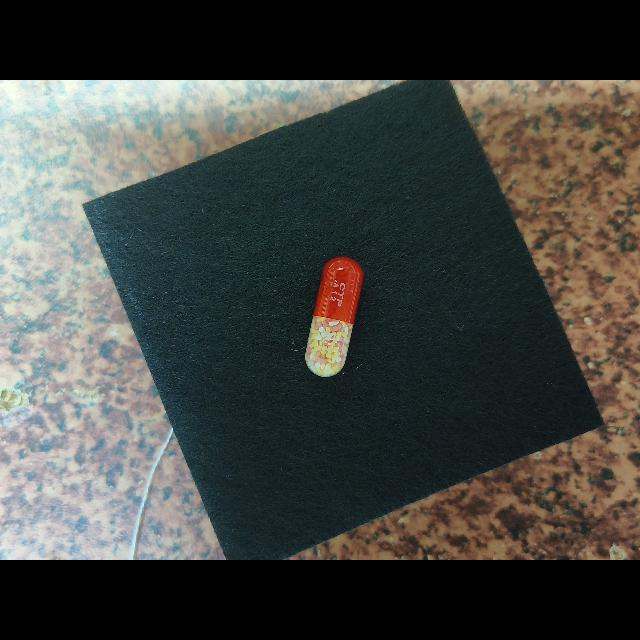Intact Capsule: (305, 257, 364, 377)
